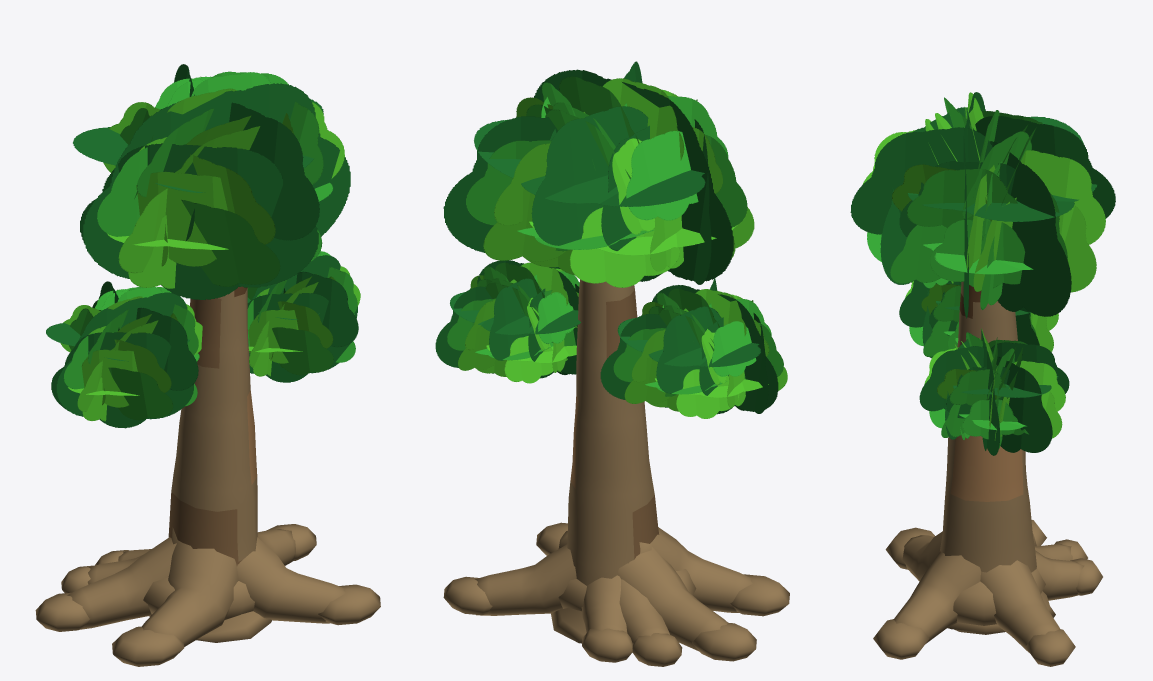
Rendered from TREE_EUCALYPTUS_001_v016_LOD_CLOSE.glb.
3 views of the same model, side by side, from view 1: azimuth 30°, elevation 25°; view 2: azimuth 150°, elevation 25°; view 3: azimuth 270°, elevation 25° (orthographic). The views are drawn at different scales.
Visible parts, largest first — view 1: TREE_EUCALYPTUS_001_CLOSE_AUTHORED_FOLIAGE_ISLANDS, TREE_EUCALYPTUS_001_CLOSE_MAIN_TRUNK, TREE_EUCALYPTUS_001_CLOSE_ROOT_FRONT_LEFT, TREE_EUCALYPTUS_001_CLOSE_ROOT_FRONT_RIGHT, TREE_EUCALYPTUS_001_CLOSE_ROOT_LONG_LEFT, TREE_EUCALYPTUS_001_CLOSE_ROOT_TOE_FRONT_LEFT, TREE_EUCALYPTUS_001_CLOSE_ROOT_TOE_FRONT_RIGHT, TREE_EUCALYPTUS_001_CLOSE_ROOT_TOE_LONG_LEFT, TREE_EUCALYPTUS_001_CLOSE_SCULPTED_ROOT_COLLAR, TREE_EUCALYPTUS_001_CLOSE_BROAD_PLANTED_ROOT_MOUND, TREE_EUCALYPTUS_001_CLOSE_ROOT_RIGHT_SIDE, TREE_EUCALYPTUS_001_CLOSE_ROOT_TOE_RIGHT_SIDE (+2 smaller); view 2: TREE_EUCALYPTUS_001_CLOSE_AUTHORED_FOLIAGE_ISLANDS, TREE_EUCALYPTUS_001_CLOSE_MAIN_TRUNK, TREE_EUCALYPTUS_001_CLOSE_ROOT_LONG_LEFT, TREE_EUCALYPTUS_001_CLOSE_ROOT_RIGHT_SIDE, TREE_EUCALYPTUS_001_CLOSE_ROOT_FRONT_LEFT, TREE_EUCALYPTUS_001_CLOSE_ROOT_REAR_SHORT, TREE_EUCALYPTUS_001_CLOSE_ROOT_TOE_LONG_LEFT, TREE_EUCALYPTUS_001_CLOSE_ROOT_TOE_FRONT_LEFT, TREE_EUCALYPTUS_001_CLOSE_ROOT_LEFT_REAR, TREE_EUCALYPTUS_001_CLOSE_ROOT_TOE_REAR_SHORT, TREE_EUCALYPTUS_001_CLOSE_ROOT_TOE_LEFT_REAR, TREE_EUCALYPTUS_001_CLOSE_ROOT_TOE_RIGHT_SIDE (+3 smaller); view 3: TREE_EUCALYPTUS_001_CLOSE_AUTHORED_FOLIAGE_ISLANDS, TREE_EUCALYPTUS_001_CLOSE_MAIN_TRUNK, TREE_EUCALYPTUS_001_CLOSE_ROOT_FRONT_RIGHT, TREE_EUCALYPTUS_001_CLOSE_ROOT_RIGHT_SIDE, TREE_EUCALYPTUS_001_CLOSE_BROAD_PLANTED_ROOT_MOUND, TREE_EUCALYPTUS_001_CLOSE_ROOT_REAR_SHORT, TREE_EUCALYPTUS_001_CLOSE_ROOT_TOE_FRONT_RIGHT, TREE_EUCALYPTUS_001_CLOSE_ROOT_TOE_RIGHT_SIDE, TREE_EUCALYPTUS_001_CLOSE_ROOT_FRONT_LEFT, TREE_EUCALYPTUS_001_CLOSE_ROOT_TOE_FRONT_LEFT, TREE_EUCALYPTUS_001_CLOSE_ROOT_TOE_REAR_SHORT, TREE_EUCALYPTUS_001_CLOSE_SCULPTED_ROOT_COLLAR (+1 smaller).
Part boxes in pixels (x1,y1,x2,y2): TREE_EUCALYPTUS_001_CLOSE_AUTHORED_FOLIAGE_ISLANDS: (46,64,360,428); TREE_EUCALYPTUS_001_CLOSE_MAIN_TRUNK: (168,286,257,565); TREE_EUCALYPTUS_001_CLOSE_ROOT_FRONT_LEFT: (142,527,238,646); TREE_EUCALYPTUS_001_CLOSE_ROOT_FRONT_RIGHT: (237,537,346,623); TREE_EUCALYPTUS_001_CLOSE_ROOT_LONG_LEFT: (67,537,176,629); TREE_EUCALYPTUS_001_CLOSE_ROOT_TOE_FRONT_LEFT: (112,626,184,666); TREE_EUCALYPTUS_001_CLOSE_ROOT_TOE_FRONT_RIGHT: (318,584,380,625); TREE_EUCALYPTUS_001_CLOSE_ROOT_TOE_LONG_LEFT: (35,592,89,631); TREE_EUCALYPTUS_001_CLOSE_SCULPTED_ROOT_COLLAR: (149,611,272,642); TREE_EUCALYPTUS_001_CLOSE_BROAD_PLANTED_ROOT_MOUND: (143,577,254,619); TREE_EUCALYPTUS_001_CLOSE_ROOT_RIGHT_SIDE: (257,529,295,565); TREE_EUCALYPTUS_001_CLOSE_ROOT_TOE_RIGHT_SIDE: (266,524,316,560); TREE_EUCALYPTUS_001_CLOSE_AUTHORED_FOLIAGE_ISLANDS: (435,61,787,418); TREE_EUCALYPTUS_001_CLOSE_MAIN_TRUNK: (567,279,659,585); TREE_EUCALYPTUS_001_CLOSE_ROOT_LONG_LEFT: (617,546,727,651); TREE_EUCALYPTUS_001_CLOSE_ROOT_RIGHT_SIDE: (475,544,576,615); TREE_EUCALYPTUS_001_CLOSE_ROOT_FRONT_LEFT: (628,527,752,612); TREE_EUCALYPTUS_001_CLOSE_ROOT_REAR_SHORT: (581,575,627,632); TREE_EUCALYPTUS_001_CLOSE_ROOT_TOE_LONG_LEFT: (692,622,756,661); TREE_EUCALYPTUS_001_CLOSE_ROOT_TOE_FRONT_LEFT: (730,574,789,616); TREE_EUCALYPTUS_001_CLOSE_ROOT_LEFT_REAR: (619,579,669,643); TREE_EUCALYPTUS_001_CLOSE_ROOT_TOE_REAR_SHORT: (582,628,632,662); TREE_EUCALYPTUS_001_CLOSE_ROOT_TOE_LEFT_REAR: (632,633,682,666); TREE_EUCALYPTUS_001_CLOSE_ROOT_TOE_RIGHT_SIDE: (443,576,492,615); TREE_EUCALYPTUS_001_CLOSE_AUTHORED_FOLIAGE_ISLANDS: (850,92,1115,455); TREE_EUCALYPTUS_001_CLOSE_MAIN_TRUNK: (939,281,1036,634); TREE_EUCALYPTUS_001_CLOSE_ROOT_FRONT_RIGHT: (894,552,981,643); TREE_EUCALYPTUS_001_CLOSE_ROOT_RIGHT_SIDE: (980,560,1059,652); TREE_EUCALYPTUS_001_CLOSE_BROAD_PLANTED_ROOT_MOUND: (953,569,1045,625); TREE_EUCALYPTUS_001_CLOSE_ROOT_REAR_SHORT: (1035,550,1084,600); TREE_EUCALYPTUS_001_CLOSE_ROOT_TOE_FRONT_RIGHT: (873,619,929,659); TREE_EUCALYPTUS_001_CLOSE_ROOT_TOE_RIGHT_SIDE: (1025,629,1075,666); TREE_EUCALYPTUS_001_CLOSE_ROOT_FRONT_LEFT: (902,531,942,581); TREE_EUCALYPTUS_001_CLOSE_ROOT_TOE_FRONT_LEFT: (885,527,934,569); TREE_EUCALYPTUS_001_CLOSE_ROOT_TOE_REAR_SHORT: (1070,558,1102,595); TREE_EUCALYPTUS_001_CLOSE_SCULPTED_ROOT_COLLAR: (948,591,1055,632).
Bounding box in the file's own units: 4.13 × 6.57 × 3.3.
Materials: 5 (1 with a texture image).
